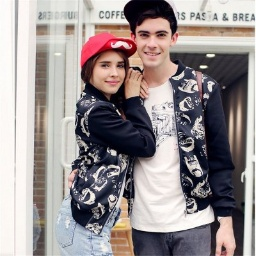face: (130, 8, 180, 68), (81, 48, 130, 95)
